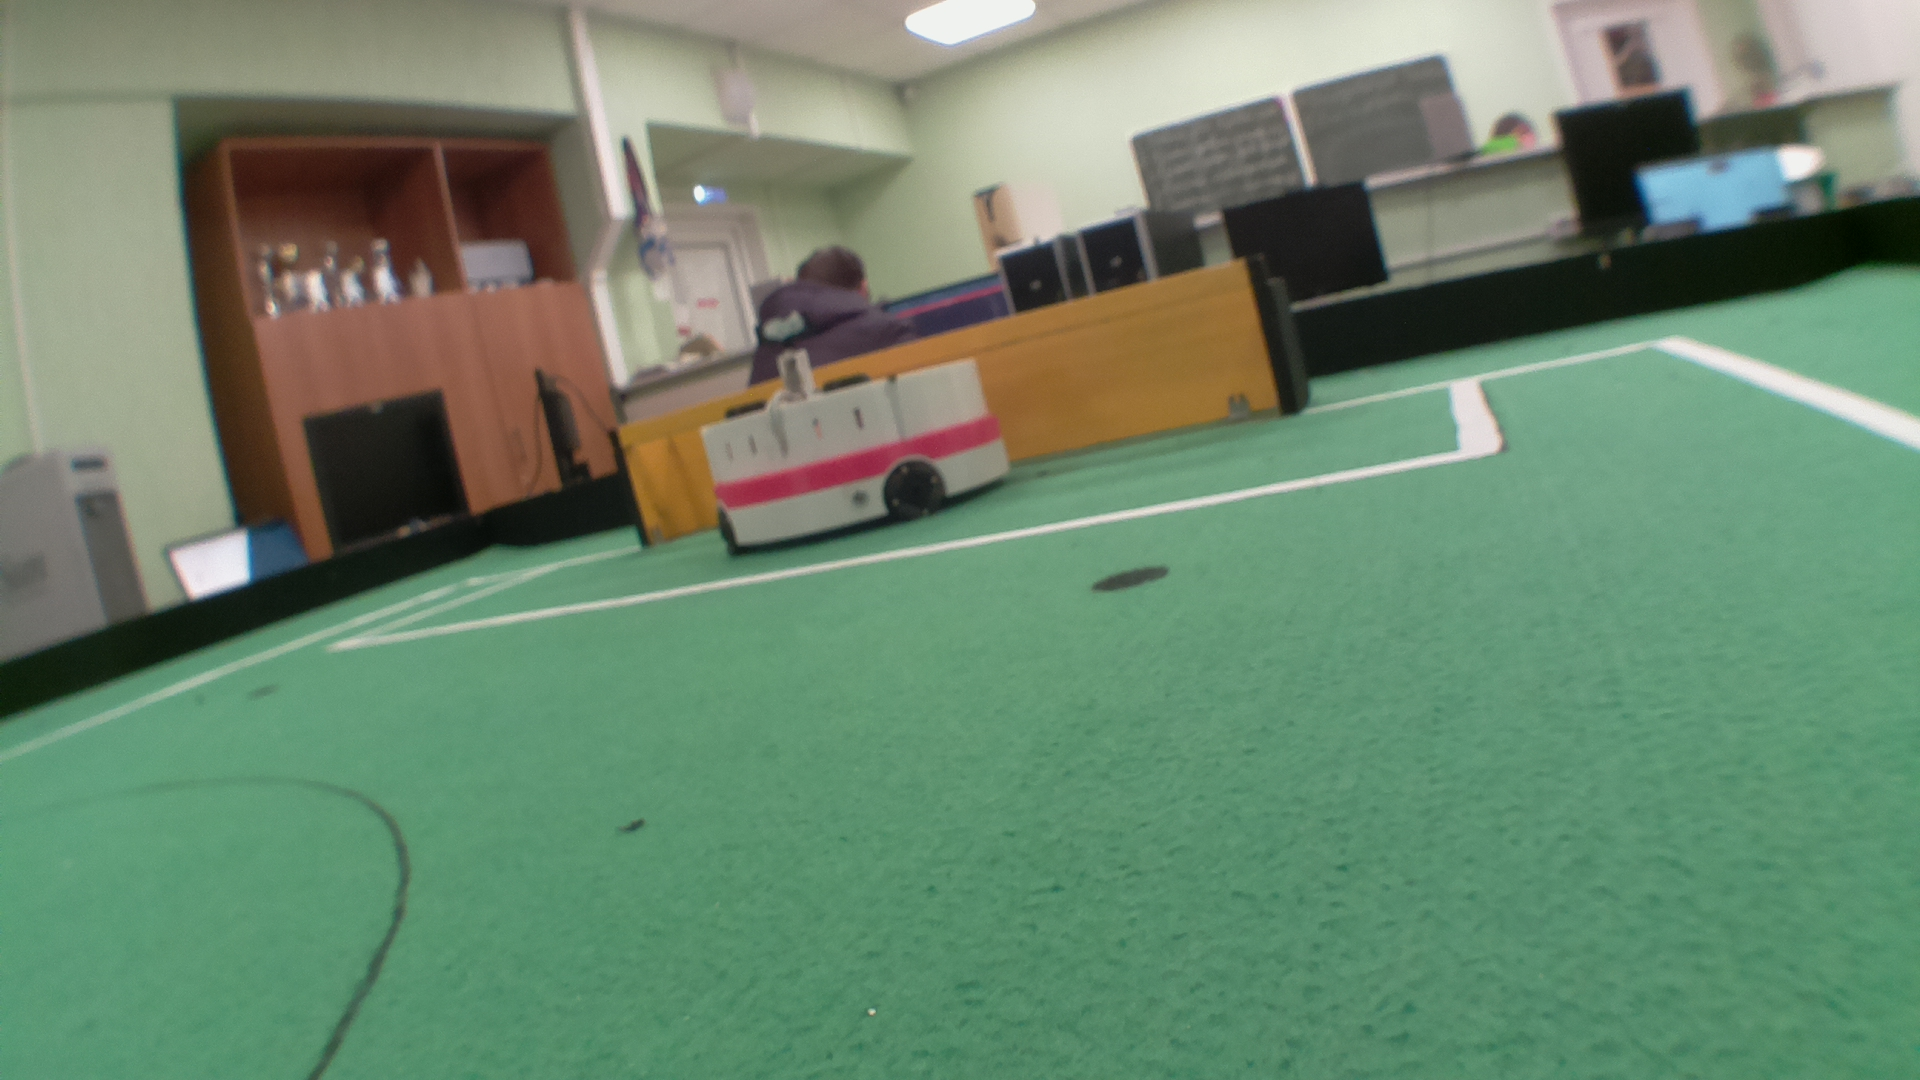YellowGoal: (626, 320, 1286, 480)
